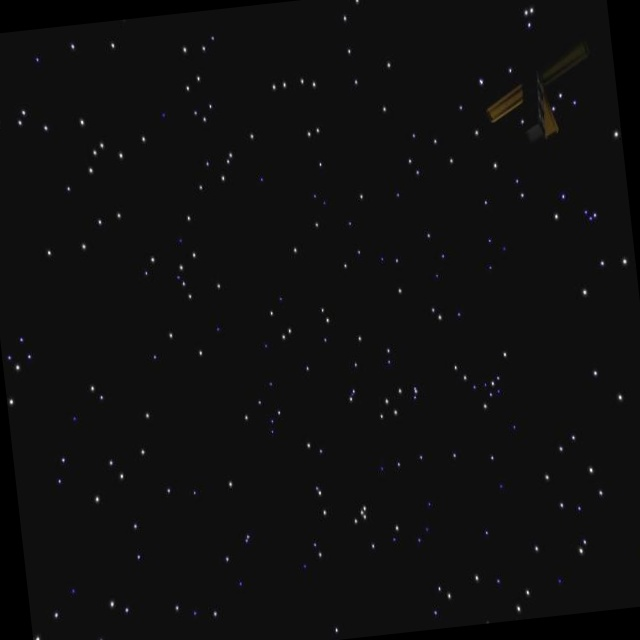medium_debris: (470, 35, 594, 149)
